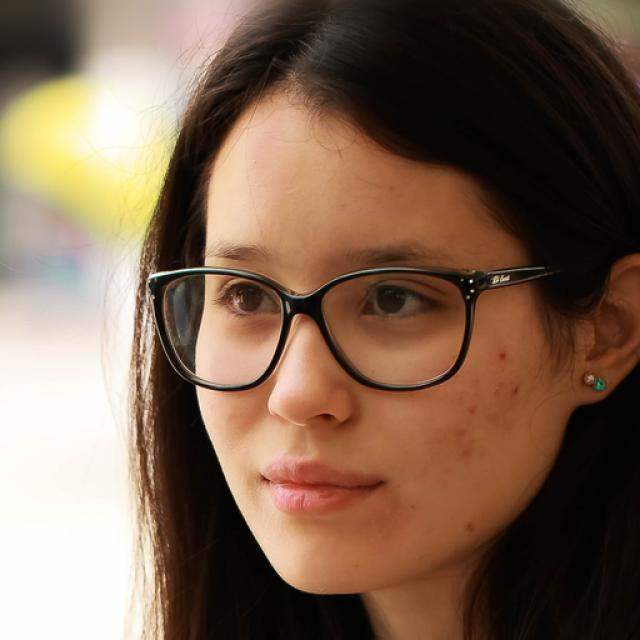neutral: (190, 72, 570, 597)
